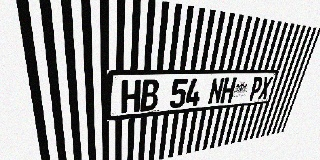4: (185, 78, 203, 107)
5: (169, 78, 188, 109)
B: (140, 79, 160, 111)
H: (121, 80, 141, 113), (220, 77, 237, 103)
N: (207, 78, 225, 105)
P: (248, 77, 264, 101)
X: (257, 76, 273, 100)
